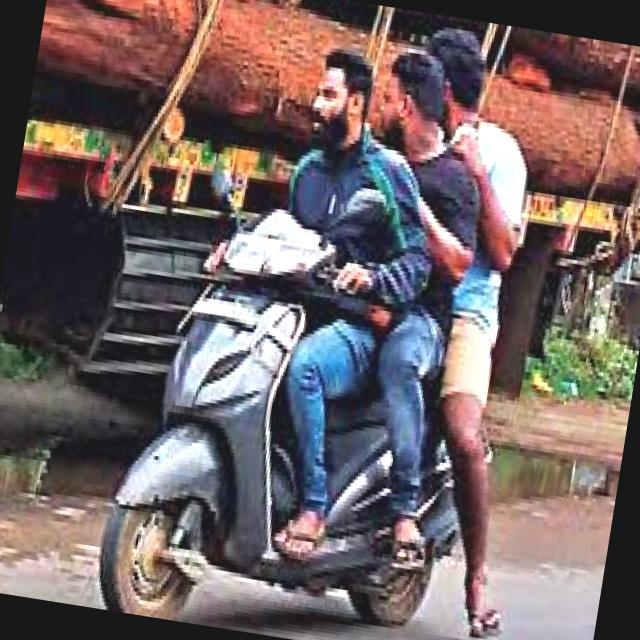motorcycle: (68, 179, 538, 640)
person: (318, 27, 516, 371), (244, 32, 420, 332), (370, 22, 544, 324)
rider_region: (87, 0, 558, 640)
